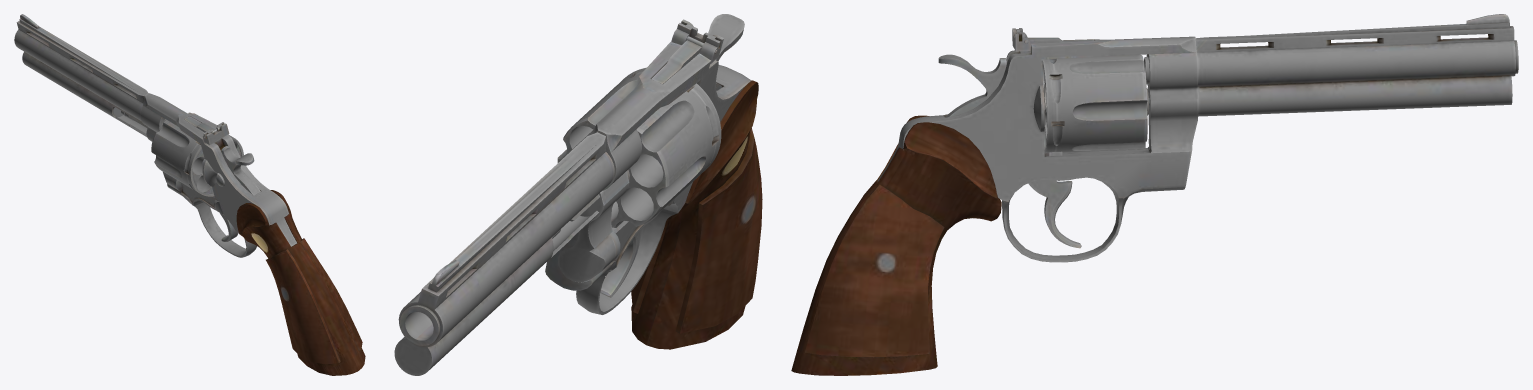
The model's file is revolver.glb.
3 renders of one model, left to right at view 1: azimuth 30°, elevation 25°; view 2: azimuth 150°, elevation 25°; view 3: azimuth 270°, elevation 25°, orthographic. The views are drawn at different scales.
Visible parts, largest first — view 1: body; view 2: body; view 3: body.
Part boxes in pixels (<box>): body: <box>14,14,365,375</box>; body: <box>394,14,762,375</box>; body: <box>791,14,1518,375</box>.
Size of the model in its own units: 0.0781 by 0.1362 by 0.292.
Materials: 1 (1 with a texture image).
